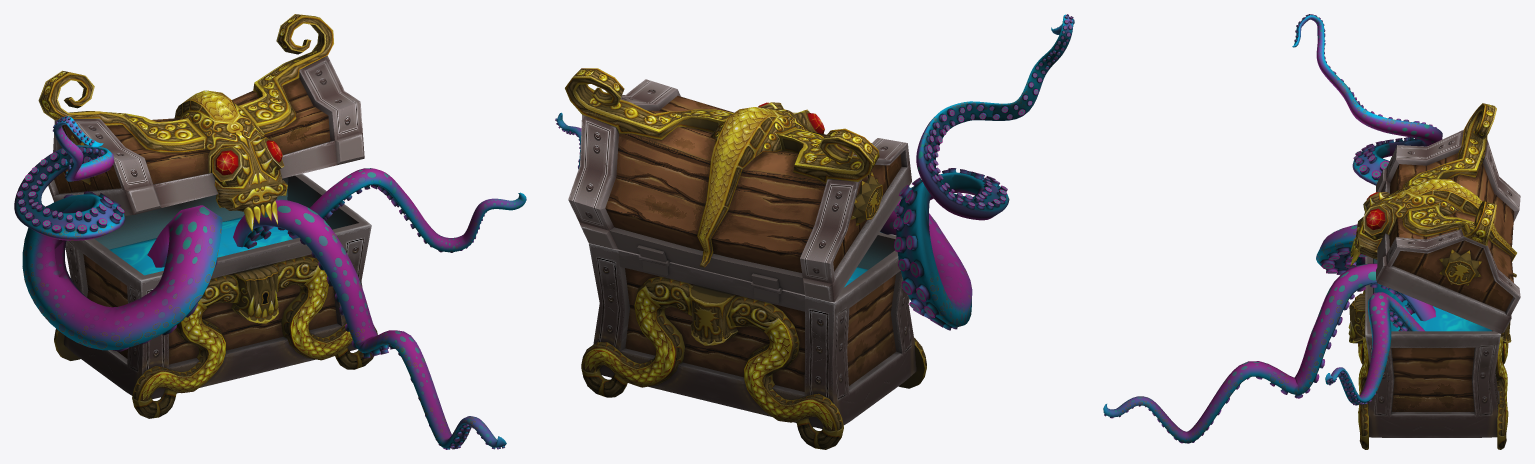
The model's file is pirate_a_chest_a.glb.
3 views of the same model, side by side, from view 1: azimuth 30°, elevation 25°; view 2: azimuth 150°, elevation 25°; view 3: azimuth 270°, elevation 25° (orthographic). The views are drawn at different scales.
Visible parts, largest first — view 1: Txt_Pirate_A_Chest_A_A, Txt_Pirate_A_Octopus_A; view 2: Txt_Pirate_A_Chest_A_A, Txt_Pirate_A_Octopus_A; view 3: Txt_Pirate_A_Chest_A_A, Txt_Pirate_A_Octopus_A.
Boxes of the visible parts, <box> form: Txt_Pirate_A_Chest_A_A: <box>38,14,377,418</box>; Txt_Pirate_A_Octopus_A: <box>14,115,526,449</box>; Txt_Pirate_A_Chest_A_A: <box>565,68,926,449</box>; Txt_Pirate_A_Octopus_A: <box>555,14,1074,330</box>; Txt_Pirate_A_Chest_A_A: <box>1348,103,1520,449</box>; Txt_Pirate_A_Octopus_A: <box>1103,14,1442,443</box>.
Bounding box in the file's own units: 240 × 170 × 214.
2 materials, 2 textured.
